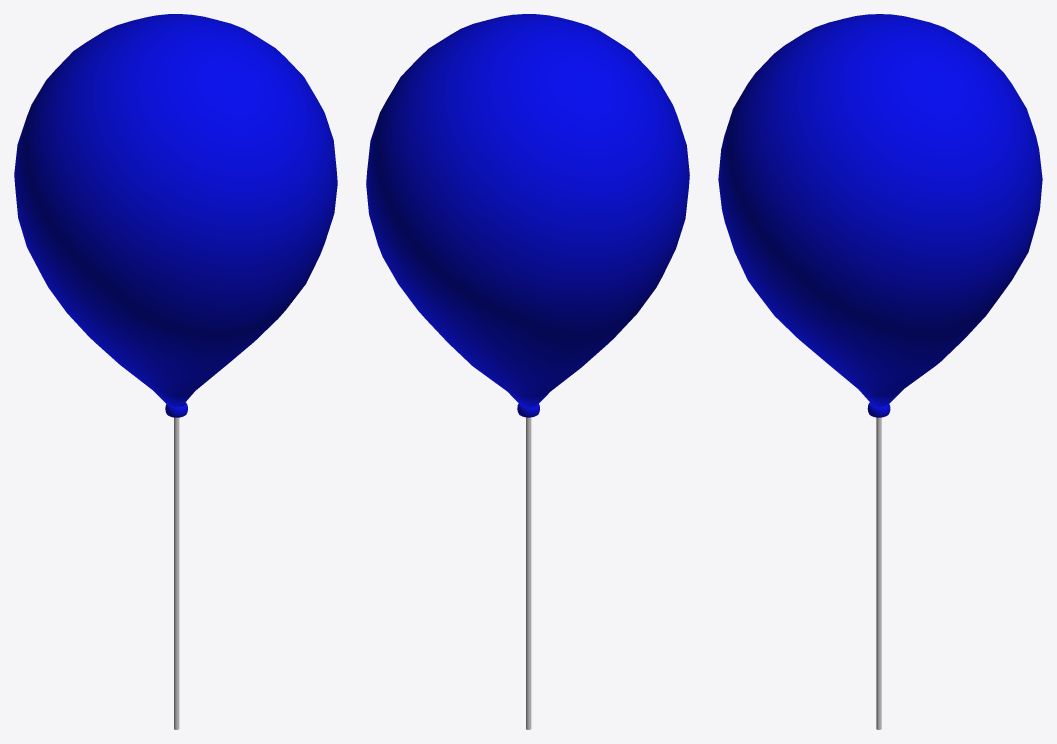
File: balloon_blue_1.glb
The picture shows the model from 3 angles, left to right: view 1: azimuth 30°, elevation 25°; view 2: azimuth 150°, elevation 25°; view 3: azimuth 270°, elevation 25°; orthographic projection.
Visible parts, largest first — view 1: Sphere.009, Cylinder.009; view 2: Sphere.009, Cylinder.009; view 3: Sphere.009, Cylinder.009.
Boxes of the visible parts, x1,y1,x2,y2 form: Sphere.009: (14,14,337,407); Cylinder.009: (174,417,179,729); Sphere.009: (366,14,689,407); Cylinder.009: (526,417,531,729); Sphere.009: (718,14,1042,407); Cylinder.009: (876,417,881,729).
Bounding box in the file's own units: 2 × 4.76 × 2.
